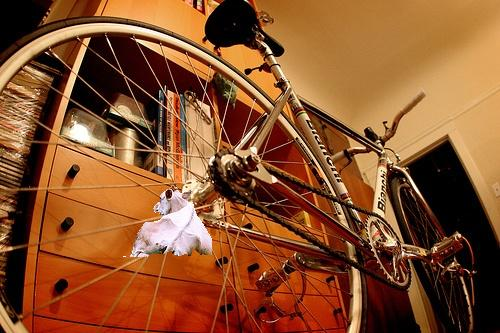tampered: (124, 187, 212, 257)
